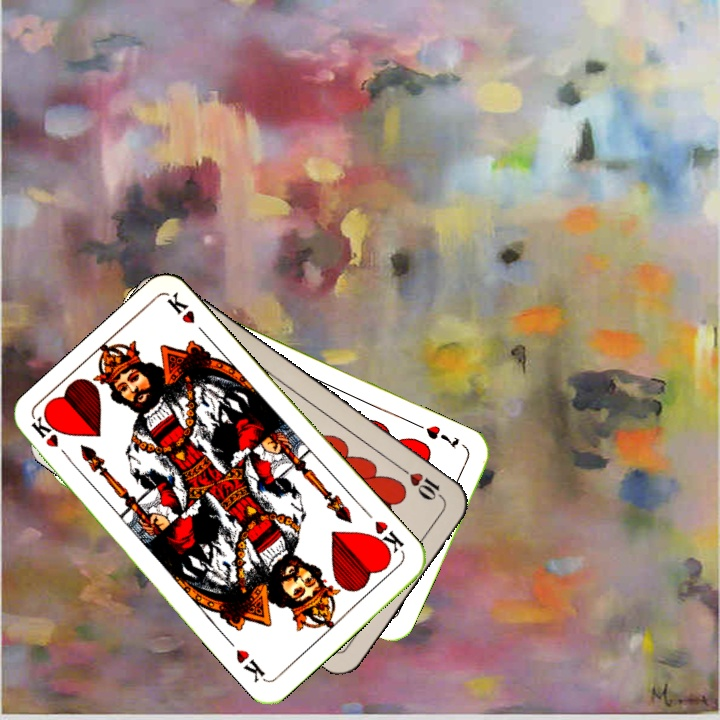H10: (395, 462, 446, 503)
H7: (421, 421, 462, 452)
HK: (27, 413, 75, 465), (367, 516, 407, 560)
